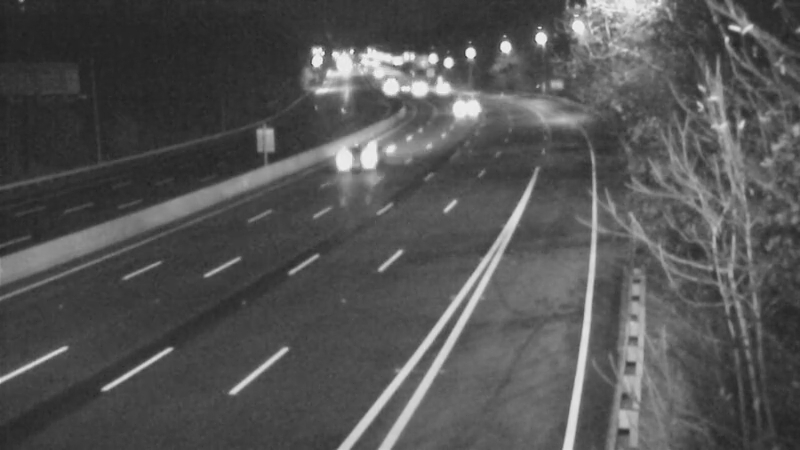vehicle: (328, 118, 408, 198), (414, 64, 464, 114), (394, 66, 444, 116), (383, 66, 433, 116), (362, 62, 412, 112), (434, 79, 484, 129)
